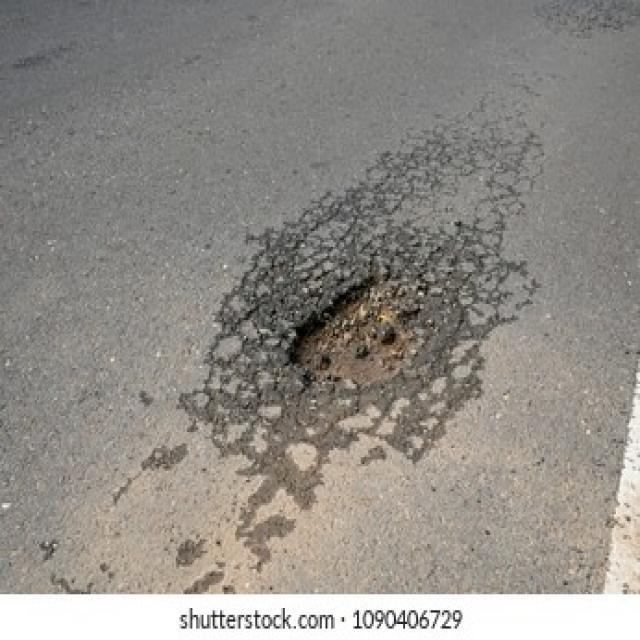Pothole: (283, 272, 424, 389)
